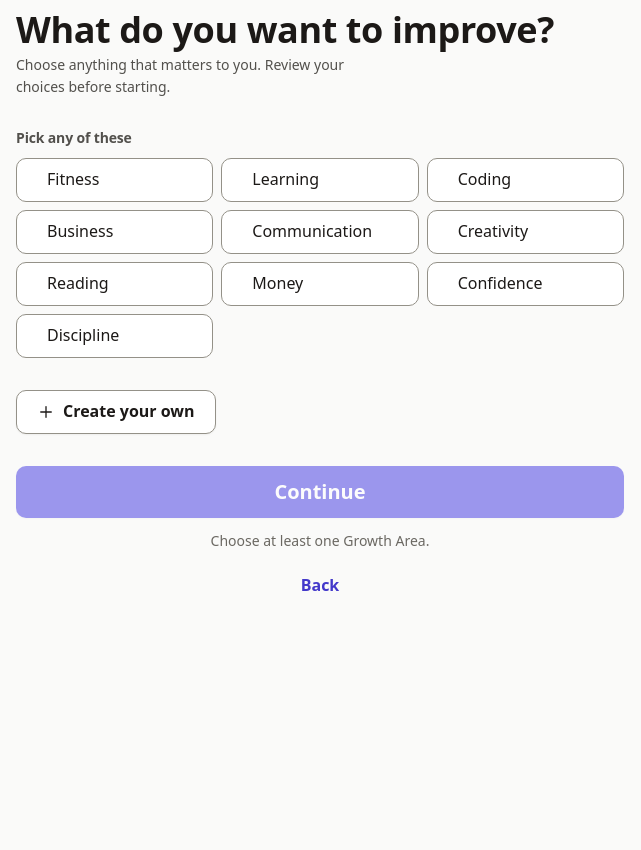
Test case: creating your own growth area › refuses decoration that is not an area
The width and height of the screenshot is (641, 850).
Click the button "Create your own" at {"x": 116, "y": 412}, box x1=16 y1=390 x2=216 y2=434
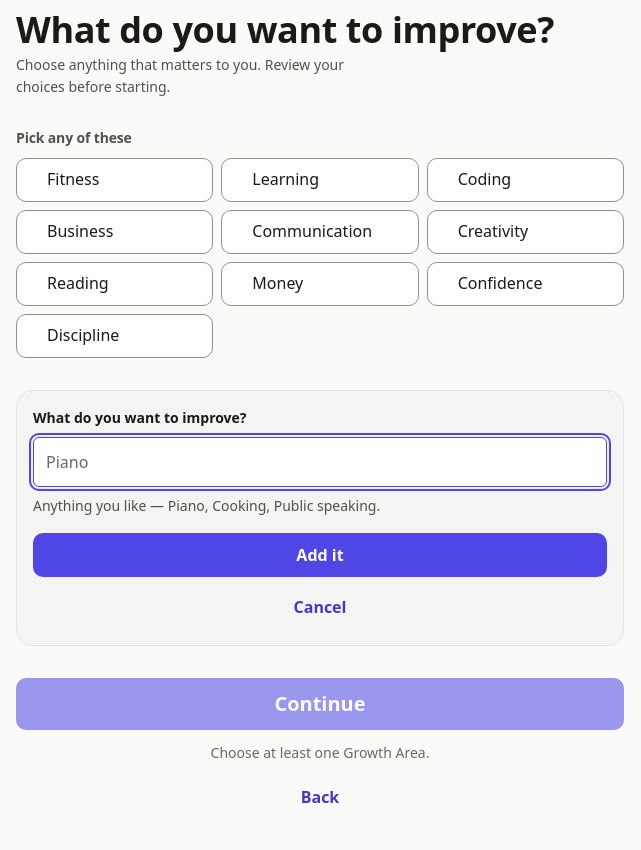
Type "!!!" into the field labelled "What do you want to improve?" at {"x": 320, "y": 462}, box x1=33 y1=436 x2=607 y2=487
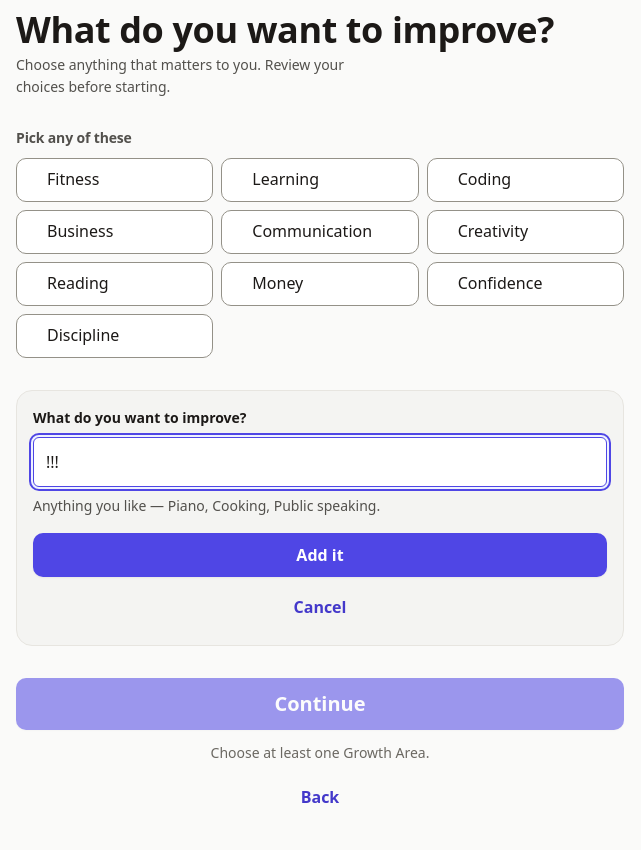
Click the button "Add it" at {"x": 320, "y": 555}, box x1=33 y1=533 x2=607 y2=577
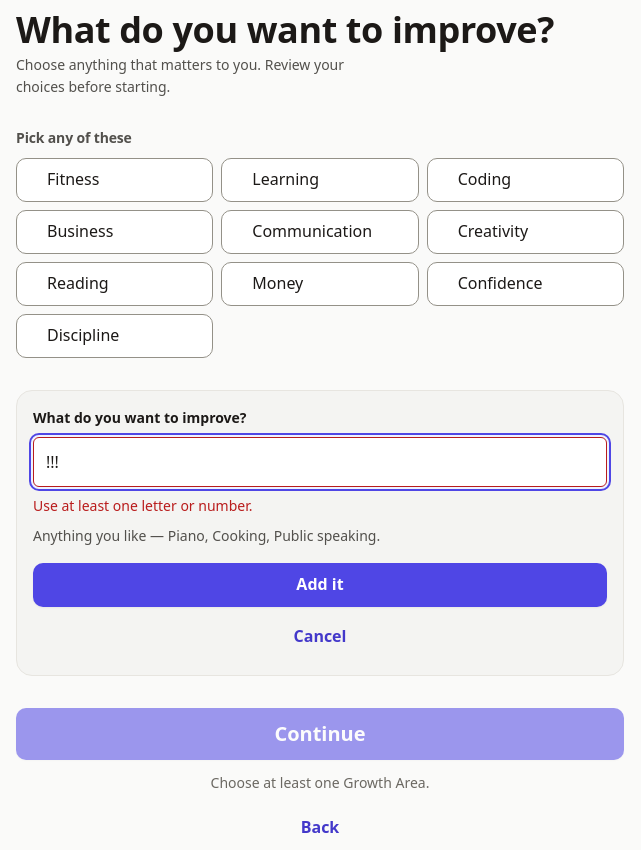
Now the text "Use at least one letter or number." is shown, box x1=33 y1=496 x2=252 y2=515
